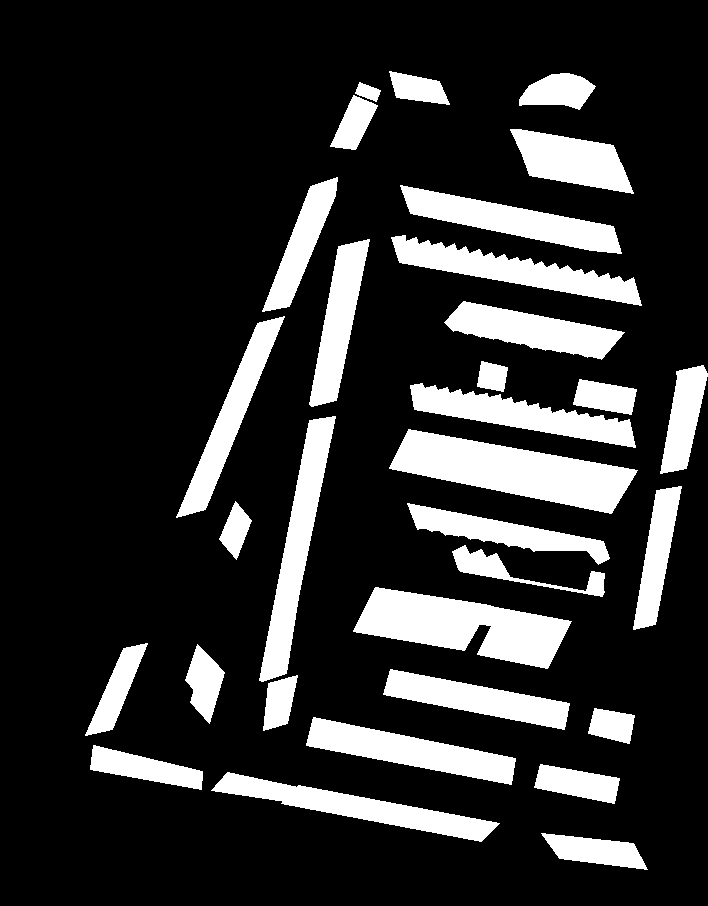parkingspot: (176, 316, 284, 517), (389, 429, 637, 513), (259, 416, 335, 681), (391, 235, 641, 305), (400, 185, 621, 253), (410, 383, 635, 447), (306, 717, 515, 784), (407, 503, 609, 564), (281, 785, 499, 841), (383, 669, 569, 729), (444, 301, 624, 359), (262, 177, 337, 311), (309, 239, 369, 406), (353, 587, 490, 650), (452, 545, 604, 596), (633, 486, 681, 629), (477, 605, 571, 668), (85, 643, 147, 735), (521, 147, 633, 193), (660, 365, 707, 473), (90, 745, 202, 789), (510, 129, 621, 172), (541, 833, 647, 869), (534, 764, 619, 803), (519, 73, 595, 109), (330, 95, 377, 149), (211, 772, 298, 801), (190, 658, 224, 723), (573, 379, 636, 414), (389, 71, 449, 104), (263, 675, 297, 730), (219, 501, 251, 559), (588, 708, 634, 743), (185, 644, 213, 693), (477, 361, 507, 391), (355, 82, 380, 101)
